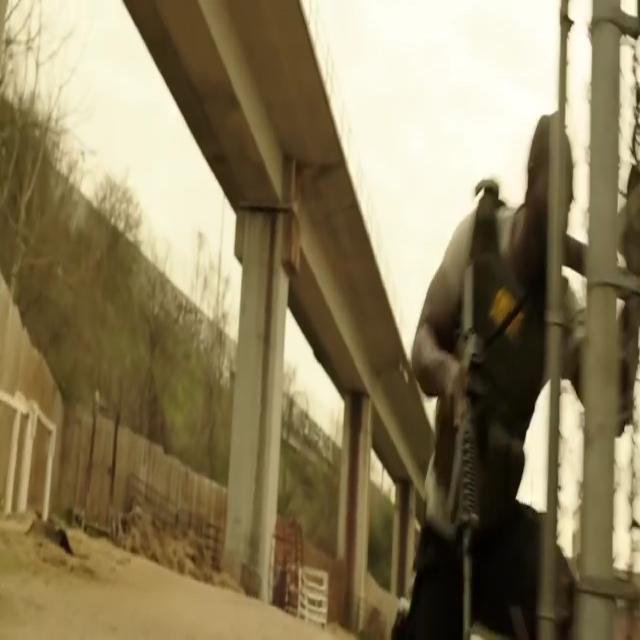Weapon: (446, 240, 533, 622)
